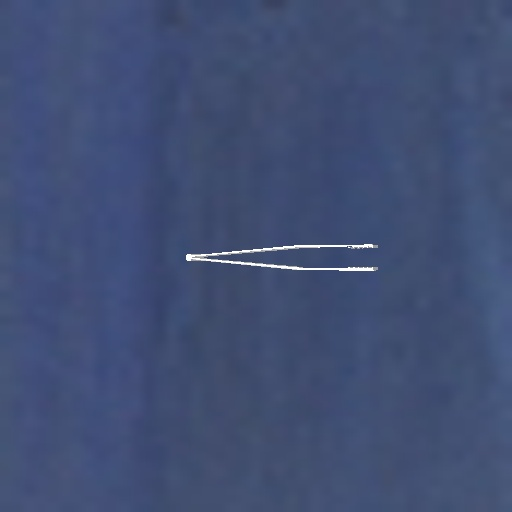pinza: (175, 233, 389, 287)
